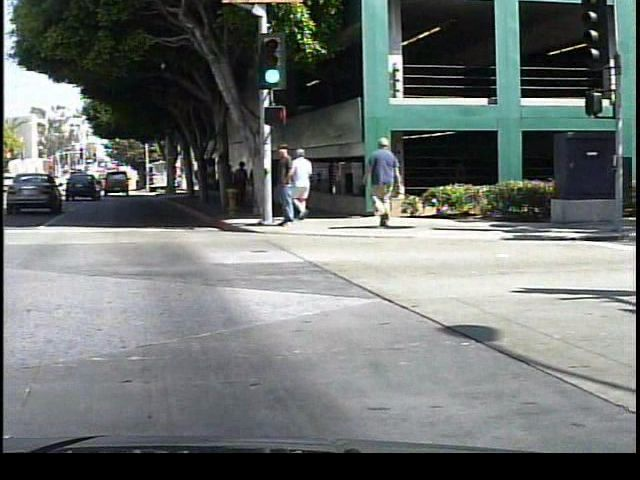person: (361, 134, 409, 232), (272, 143, 302, 235), (288, 145, 318, 219), (234, 159, 250, 209)
